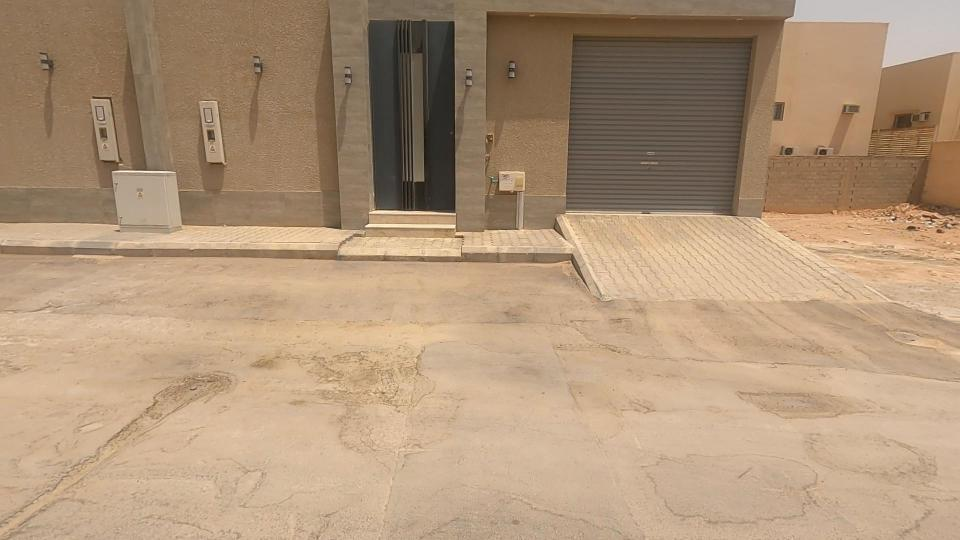GARBAGE: (896, 201, 960, 250), (853, 196, 914, 241)
POTHOLES: (253, 297, 493, 464), (88, 301, 291, 476)
